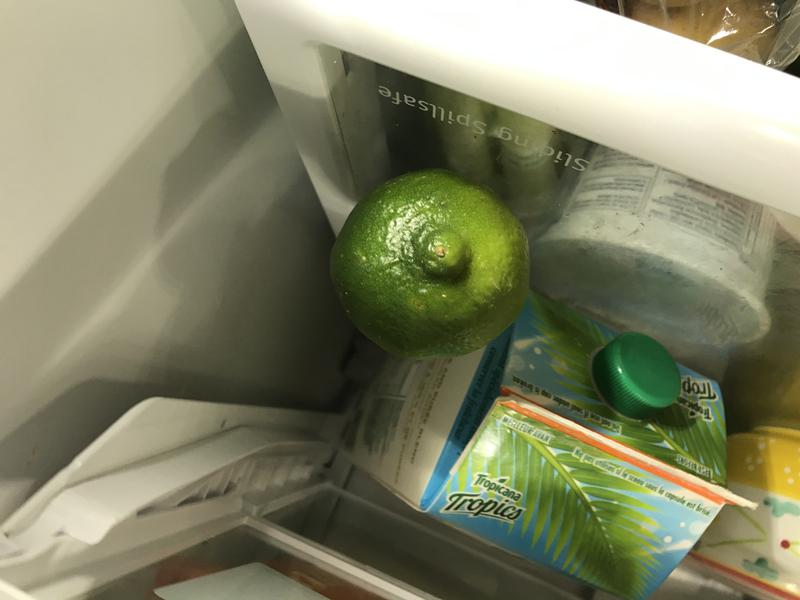lime: (319, 159, 542, 366)
